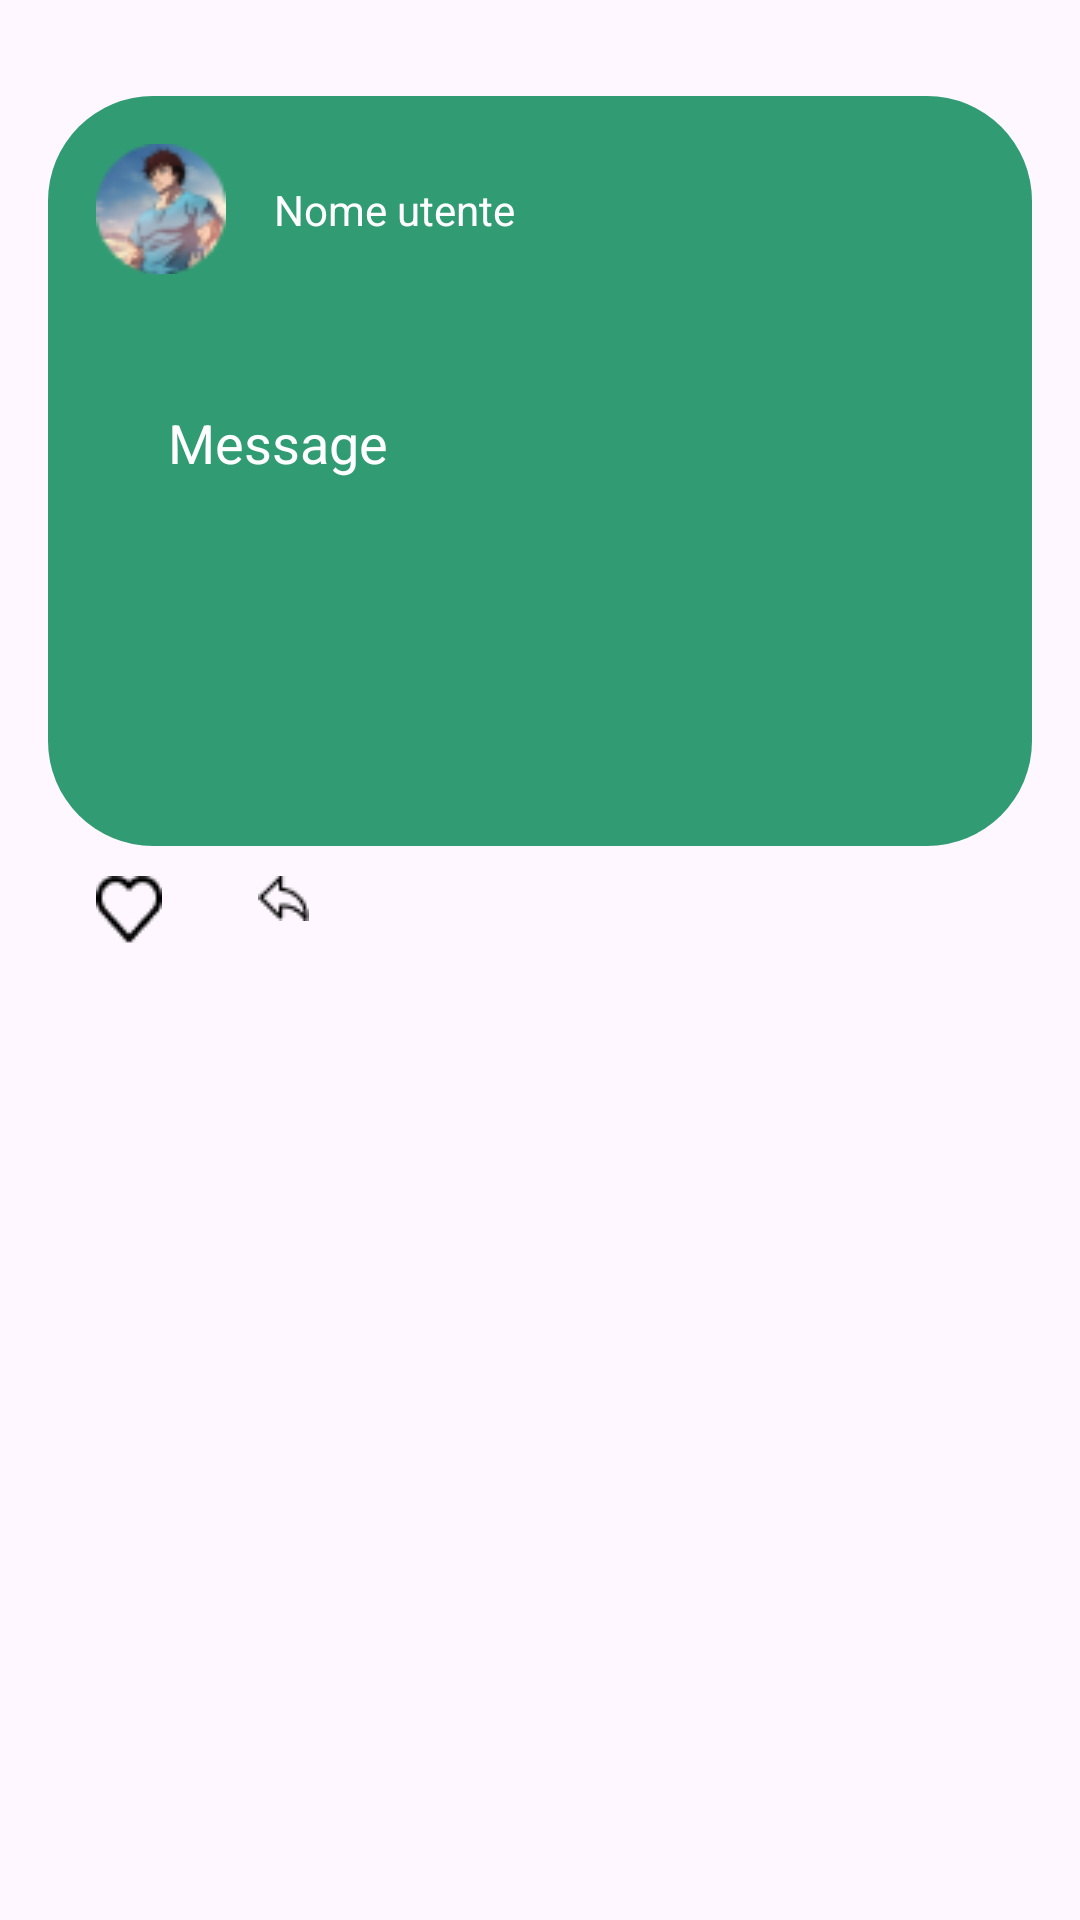

Named icons in this screenshot (1080w x 1920h) and their bounding boxes, {"x1": x1, "y1": y1, "x2": x2, "y2": y2}:
like: {"x1": 96, "y1": 876, "x2": 162, "y2": 943}
reply: {"x1": 258, "y1": 876, "x2": 309, "y2": 921}
